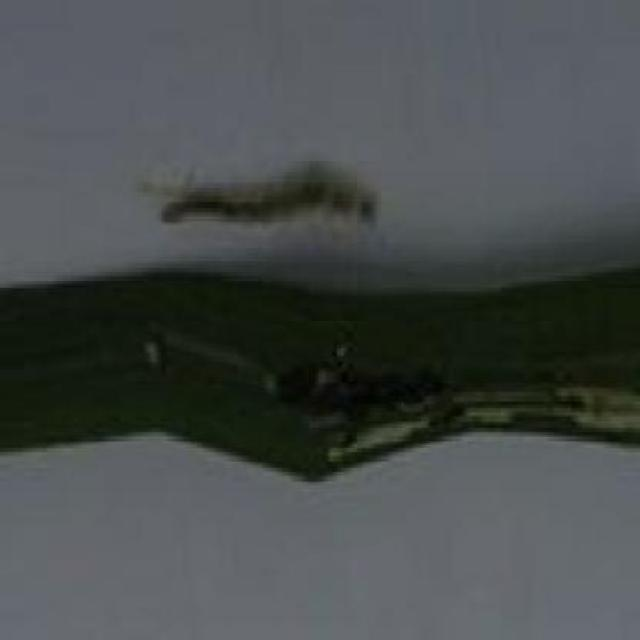leaf-folder: (138, 144, 379, 259)
